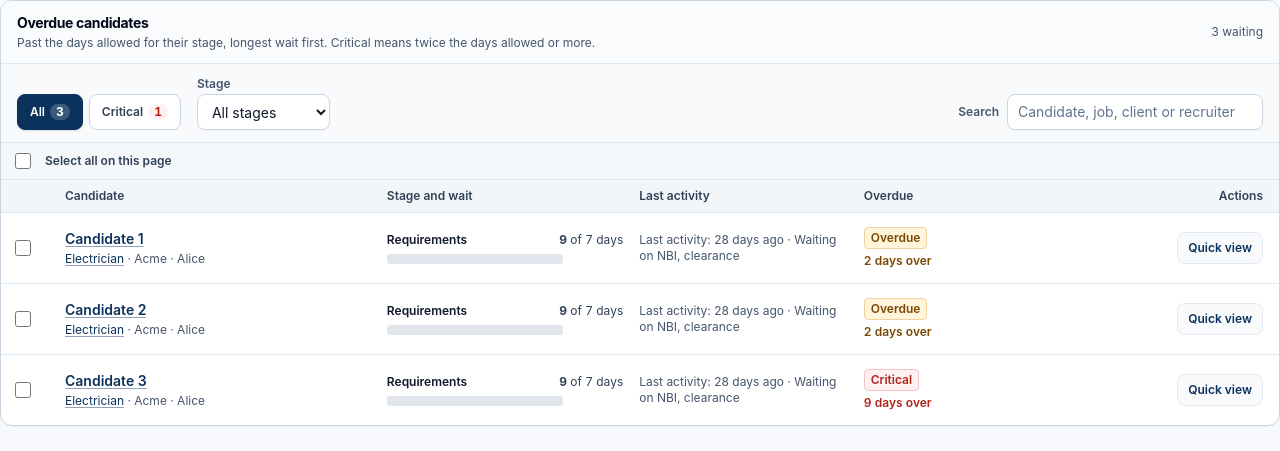
Test: StuckList selection › labels each row checkbox, shows the count, and clears
Click the checkbox named "Select Candidate 1" at (23, 248), box [15,240,31,256]
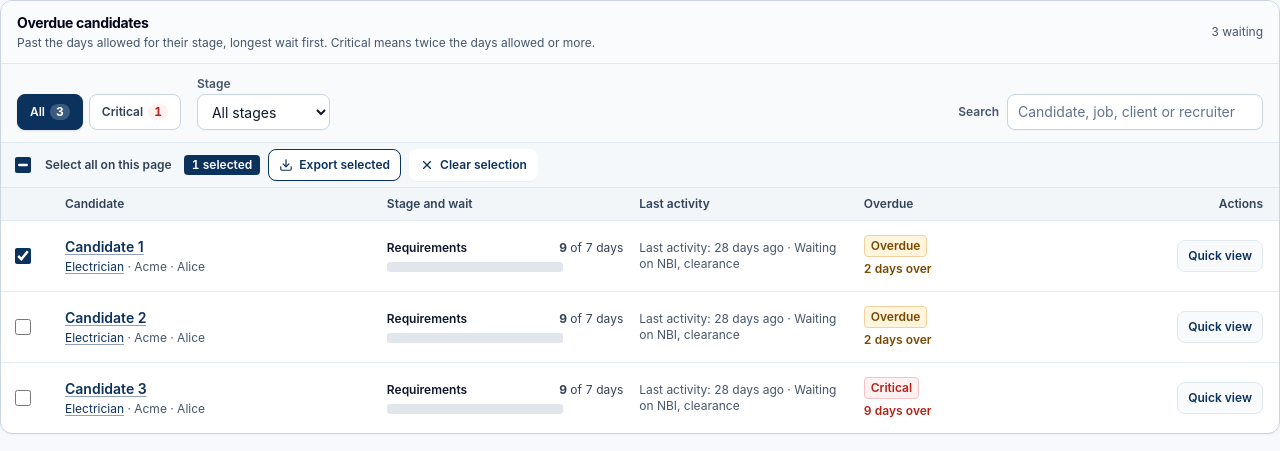
Check: the text "1 selected" is shown, box [184,155,260,175]
Click the button "Clear selection" at (474, 165), box [409,149,538,181]
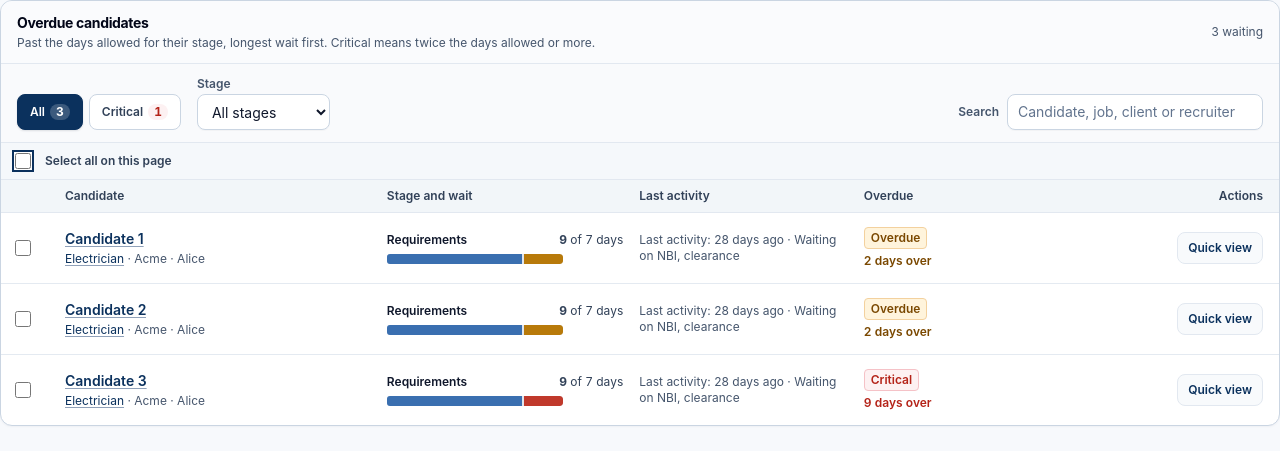
Check: the text "1 selected" is gone
